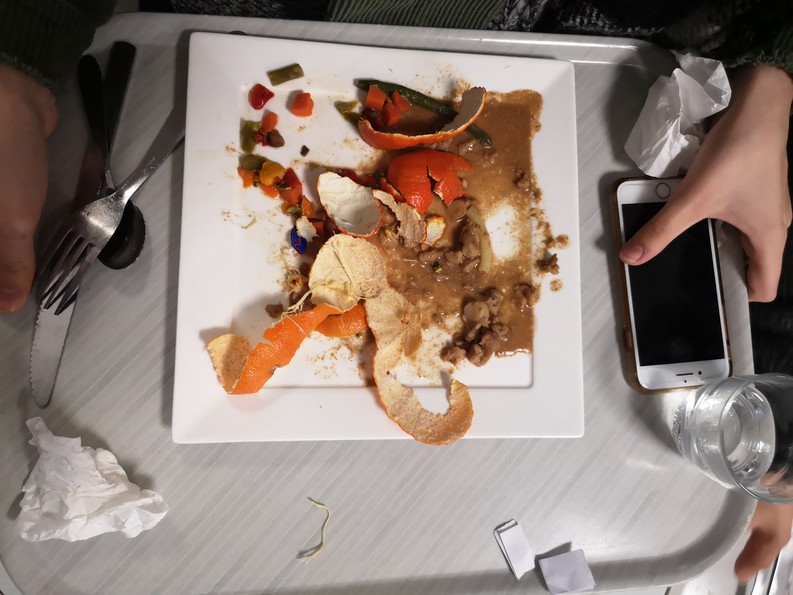orga: (213, 246, 392, 440), (315, 150, 471, 246), (351, 73, 492, 157), (238, 131, 322, 223), (448, 281, 515, 367)
trash: (2, 417, 165, 546), (620, 42, 735, 178), (493, 517, 597, 595)
